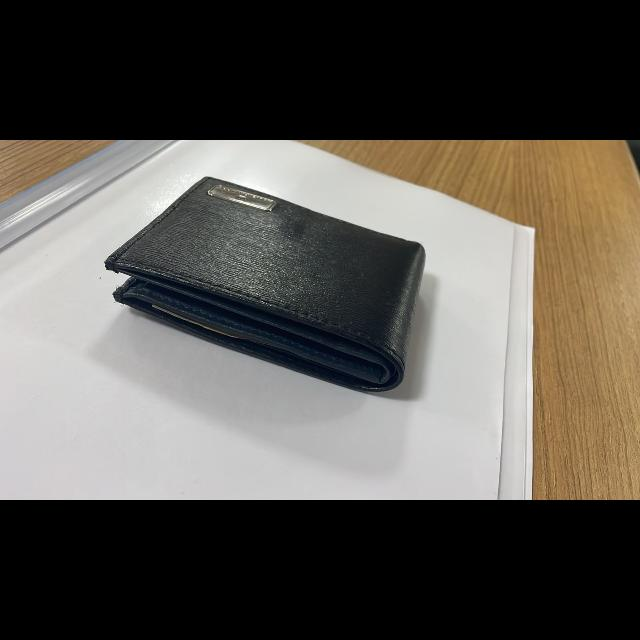wallet: (99, 165, 454, 408)
